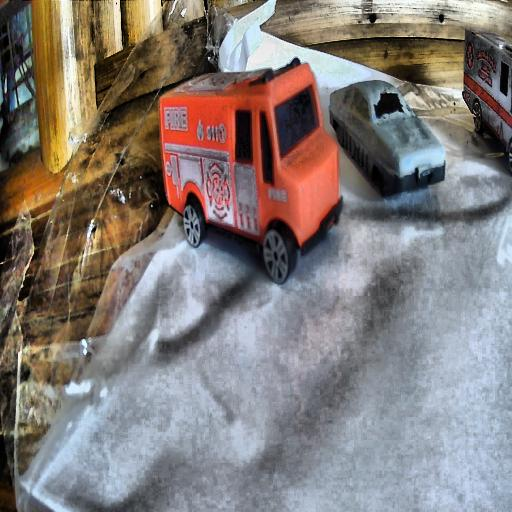ambulance: (462, 27, 510, 177)
fire_truck: (160, 53, 340, 285)
normal_car: (328, 78, 446, 197)
